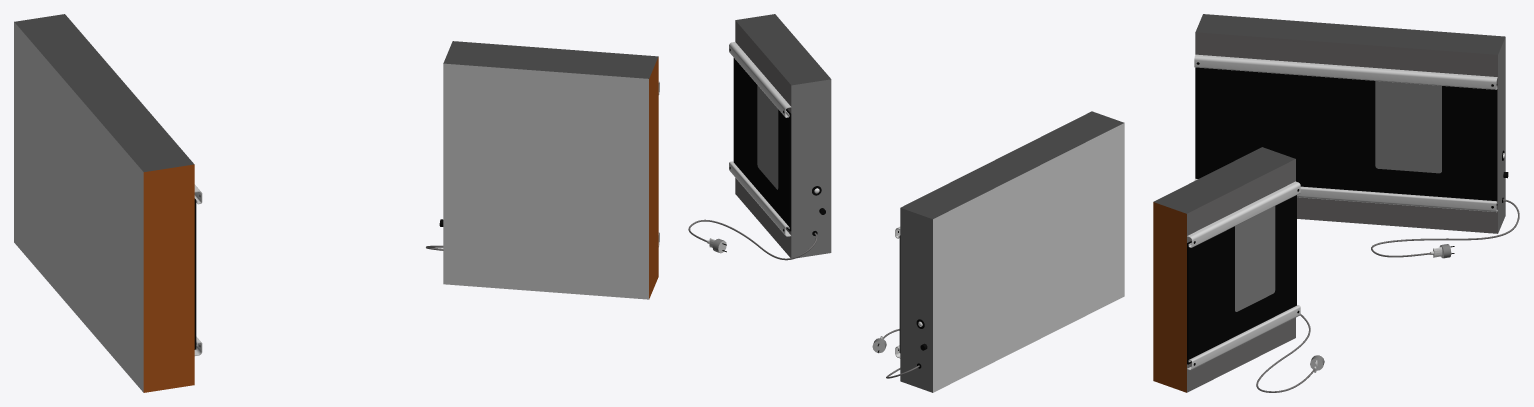
Rendered from negatoskop.FBX.
The picture shows the model from 3 angles, left to right: view 1: azimuth 30°, elevation 25°; view 2: azimuth 150°, elevation 25°; view 3: azimuth 270°, elevation 25°; orthographic projection. The views are drawn at different scales.
Visible parts, largest first — view 1: Box70, Box01; view 2: Box01, Box70, Box71, Plane02, Line21, Line20, Line22; view 3: Box02, Box01, Box70, Box71, Plane01, Line19, Plane02, Line01, Line21, Line20, Line02, Line22.
Part boxes in pixels (x1,y1,x2,y2): Box70: [443, 41, 658, 299]; Box01: [14, 14, 194, 392]; Box01: [900, 111, 1124, 392]; Box70: [735, 14, 831, 258]; Box71: [733, 58, 791, 231]; Plane02: [757, 85, 778, 189]; Line21: [729, 42, 791, 117]; Line20: [729, 161, 790, 236]; Line22: [688, 219, 817, 260]; Box02: [1195, 67, 1497, 205]; Box01: [1195, 14, 1505, 233]; Box70: [1153, 147, 1295, 392]; Box71: [1187, 195, 1296, 364]; Plane01: [1375, 81, 1441, 173]; Line19: [1194, 54, 1497, 89]; Plane02: [1235, 206, 1275, 311]; Line01: [1194, 178, 1497, 212]; Line21: [1187, 181, 1300, 247]; Line20: [1187, 305, 1300, 370]; Line02: [1371, 199, 1519, 257]; Line22: [1256, 314, 1315, 392].
Bounding box in the file's own units: 109 × 45.27 × 83.48.
